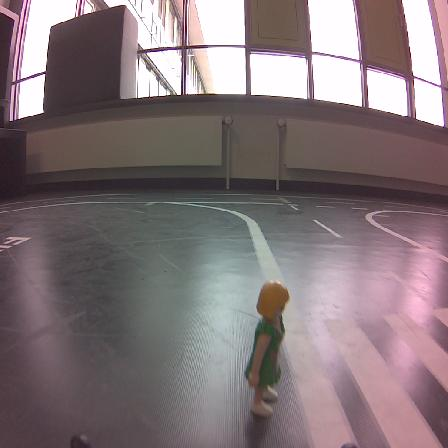PERSON: (245, 280, 288, 416)
